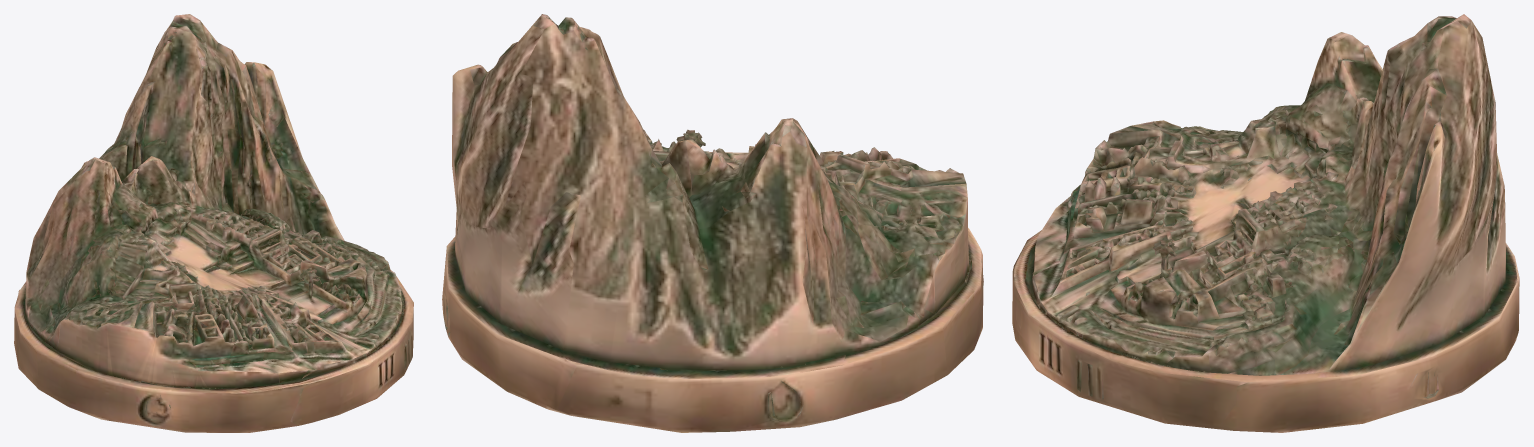
Rendered from machu_picchu_gold.glb.
3 views of the same model, side by side, from view 1: azimuth 30°, elevation 25°; view 2: azimuth 150°, elevation 25°; view 3: azimuth 270°, elevation 25° (orthographic). The views are drawn at different scales.
Parts seen in each view (by area): view 1: Mesh_0; view 2: Mesh_0; view 3: Mesh_0.
Boxes of the visible parts, bbox=[...] form: Mesh_0: bbox=[14, 14, 413, 432]; Mesh_0: bbox=[442, 14, 983, 432]; Mesh_0: bbox=[1012, 14, 1519, 432].
Size of the model in its own units: 1.91 by 1.4 by 1.91.
Materials: 1 (1 with a texture image).
